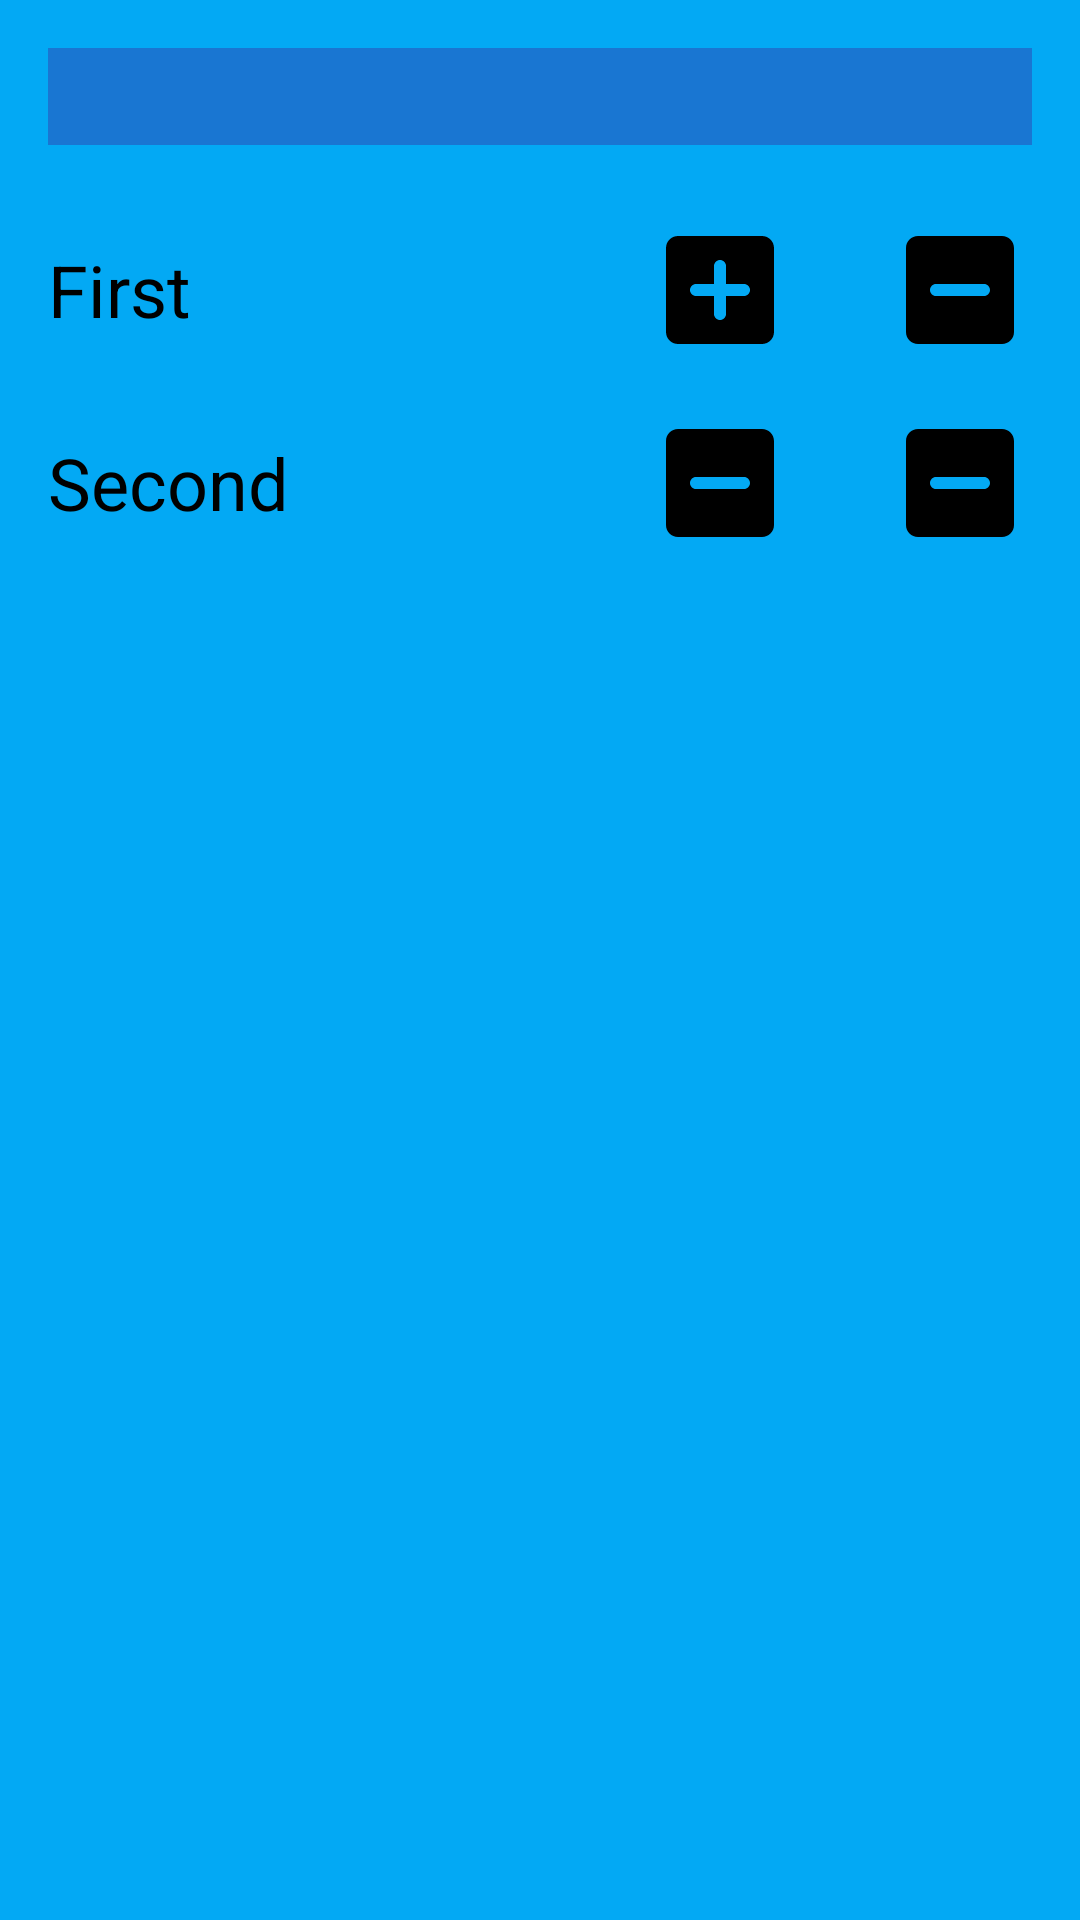

Where icons sit on this 1080x1920 app screen, as (x1, y1, x2, y2):
add box: (666, 236, 774, 344)
indeterminate check box: (906, 236, 1014, 344), (666, 429, 774, 537), (906, 429, 1014, 537)
